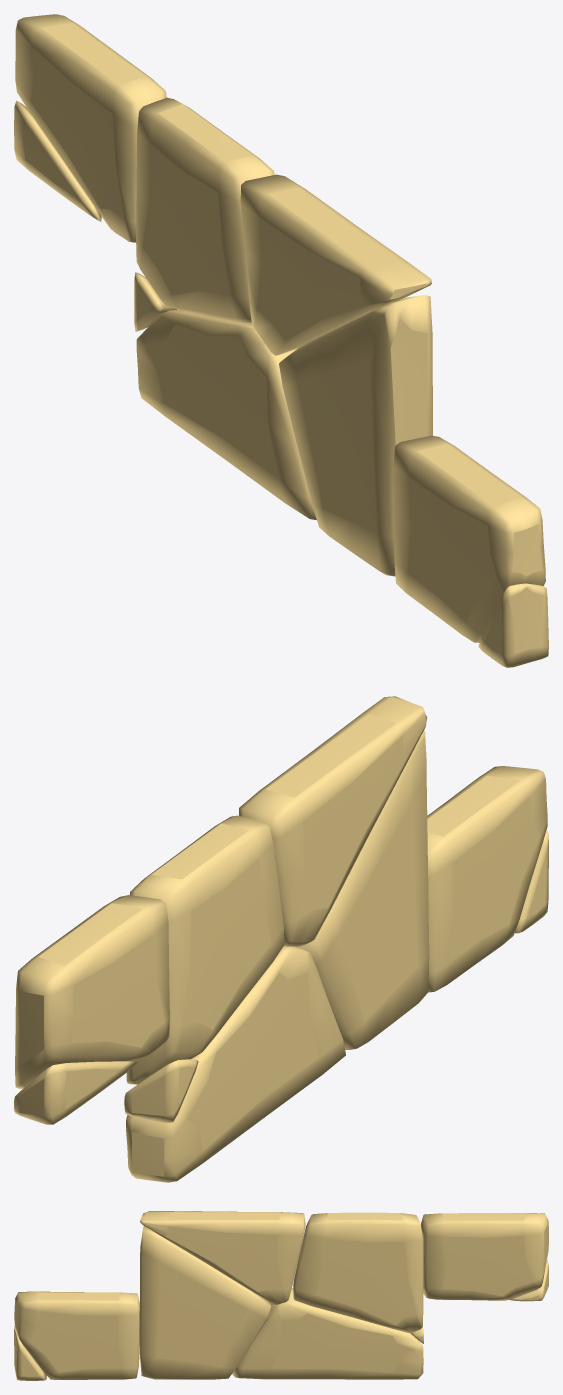
Rendered from Mesh_StoneWall_Center_2.fbx.
3 views of the same model, one above another, from view 1: azimuth 30°, elevation 25°; view 2: azimuth 150°, elevation 25°; view 3: azimuth 270°, elevation 25° (orthographic). The views are drawn at different scales.
Visible parts, largest first — view 1: Muro_piedras_intmodular2_medio2:Mesh; view 2: Muro_piedras_intmodular2_medio2:Mesh; view 3: Muro_piedras_intmodular2_medio2:Mesh.
Boxes of the visible parts, box(x1,y1,x2,y2) form: Muro_piedras_intmodular2_medio2:Mesh: box(14, 14, 548, 667); Muro_piedras_intmodular2_medio2:Mesh: box(14, 696, 548, 1182); Muro_piedras_intmodular2_medio2:Mesh: box(14, 1211, 548, 1380).
Bounding box in the file's own units: 0.7245 × 4.34 × 13.16.
